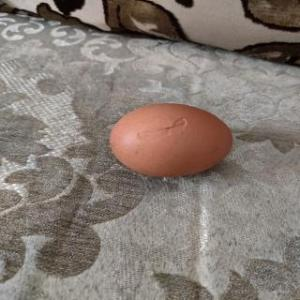egg: (109, 102, 233, 178)
